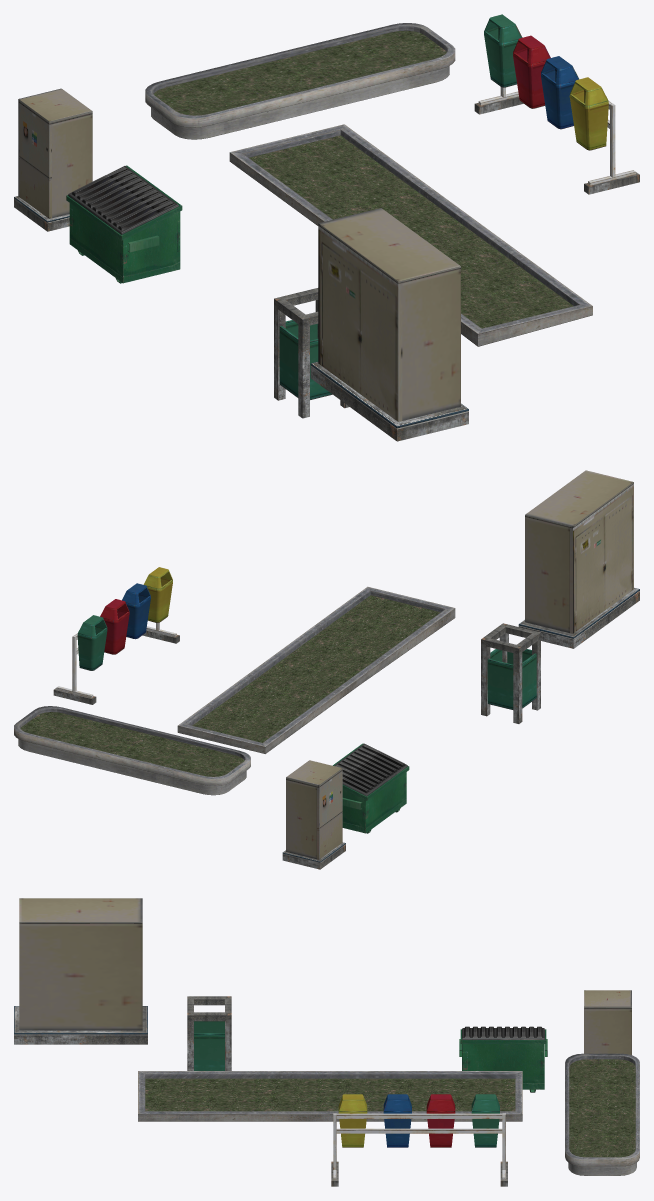
Rendered from RoadProp.fbx.
3 renders of one model, top to bottom at view 1: azimuth 30°, elevation 25°; view 2: azimuth 150°, elevation 25°; view 3: azimuth 270°, elevation 25°, orthographic. The views are drawn at different scales.
Visible parts, largest first — view 1: RoadProp_4, RoadProp_5, RoadProp_6, RoadProp_1, RoadProp_, RoadProp_3, RoadProp_2; view 2: RoadProp_5, RoadProp_4, RoadProp_6, RoadProp_1, RoadProp_3, RoadProp_2, RoadProp_; view 3: RoadProp_4, RoadProp_5, RoadProp_6, RoadProp_1, RoadProp_, RoadProp_2, RoadProp_3.
Boxes of the visible parts, x1=… form: RoadProp_4: x1=310, y1=208, x2=468, y2=441; RoadProp_5: x1=229, y1=124, x2=592, y2=346; RoadProp_6: x1=145, y1=23, x2=455, y2=139; RoadProp_1: x1=474, y1=14, x2=639, y2=194; RoadProp_: x1=66, y1=165, x2=182, y2=283; RoadProp_3: x1=14, y1=88, x2=92, y2=231; RoadProp_2: x1=274, y1=288, x2=349, y2=418; RoadProp_5: x1=177, y1=586, x2=455, y2=753; RoadProp_4: x1=518, y1=470, x2=639, y2=648; RoadProp_6: x1=14, y1=706, x2=250, y2=795; RoadProp_1: x1=53, y1=567, x2=179, y2=704; RoadProp_3: x1=282, y1=760, x2=345, y2=869; RoadProp_2: x1=481, y1=623, x2=540, y2=723; RoadProp_: x1=333, y1=743, x2=409, y2=833; RoadProp_4: x1=14, y1=898, x2=147, y2=1044; RoadProp_5: x1=138, y1=1071, x2=522, y2=1121; RoadProp_6: x1=565, y1=1053, x2=639, y2=1175; RoadProp_1: x1=331, y1=1094, x2=507, y2=1186; RoadProp_: x1=459, y1=1026, x2=547, y2=1092; RoadProp_2: x1=187, y1=996, x2=231, y2=1070; RoadProp_3: x1=584, y1=990, x2=631, y2=1054.
Size of the model in its own units: 6.93 by 3.24 by 10.84.
1 material, 1 textured.
